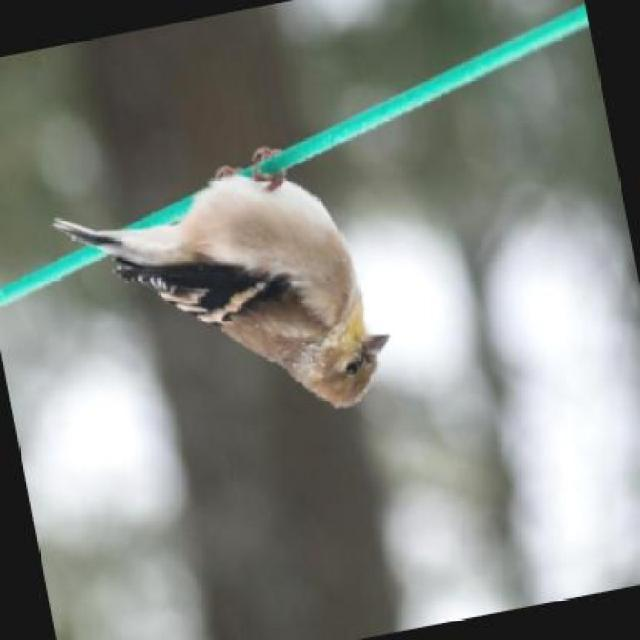Bird: (51, 152, 422, 411)
